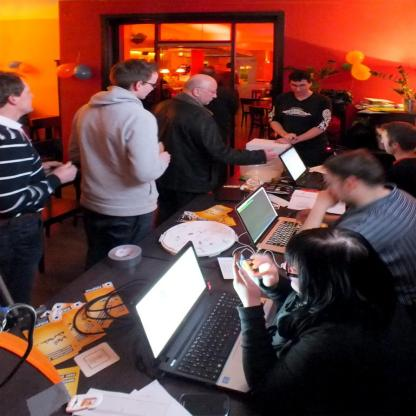board: (128, 241, 278, 393), (232, 185, 328, 255), (278, 145, 329, 191)
